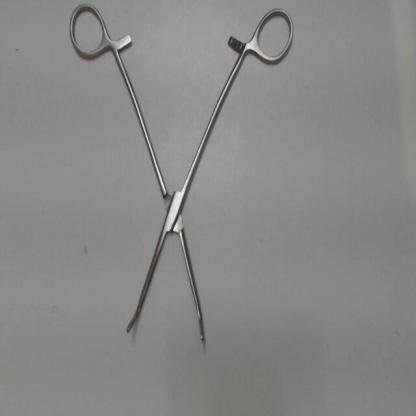Lahey Forceps: (60, 4, 299, 356)
